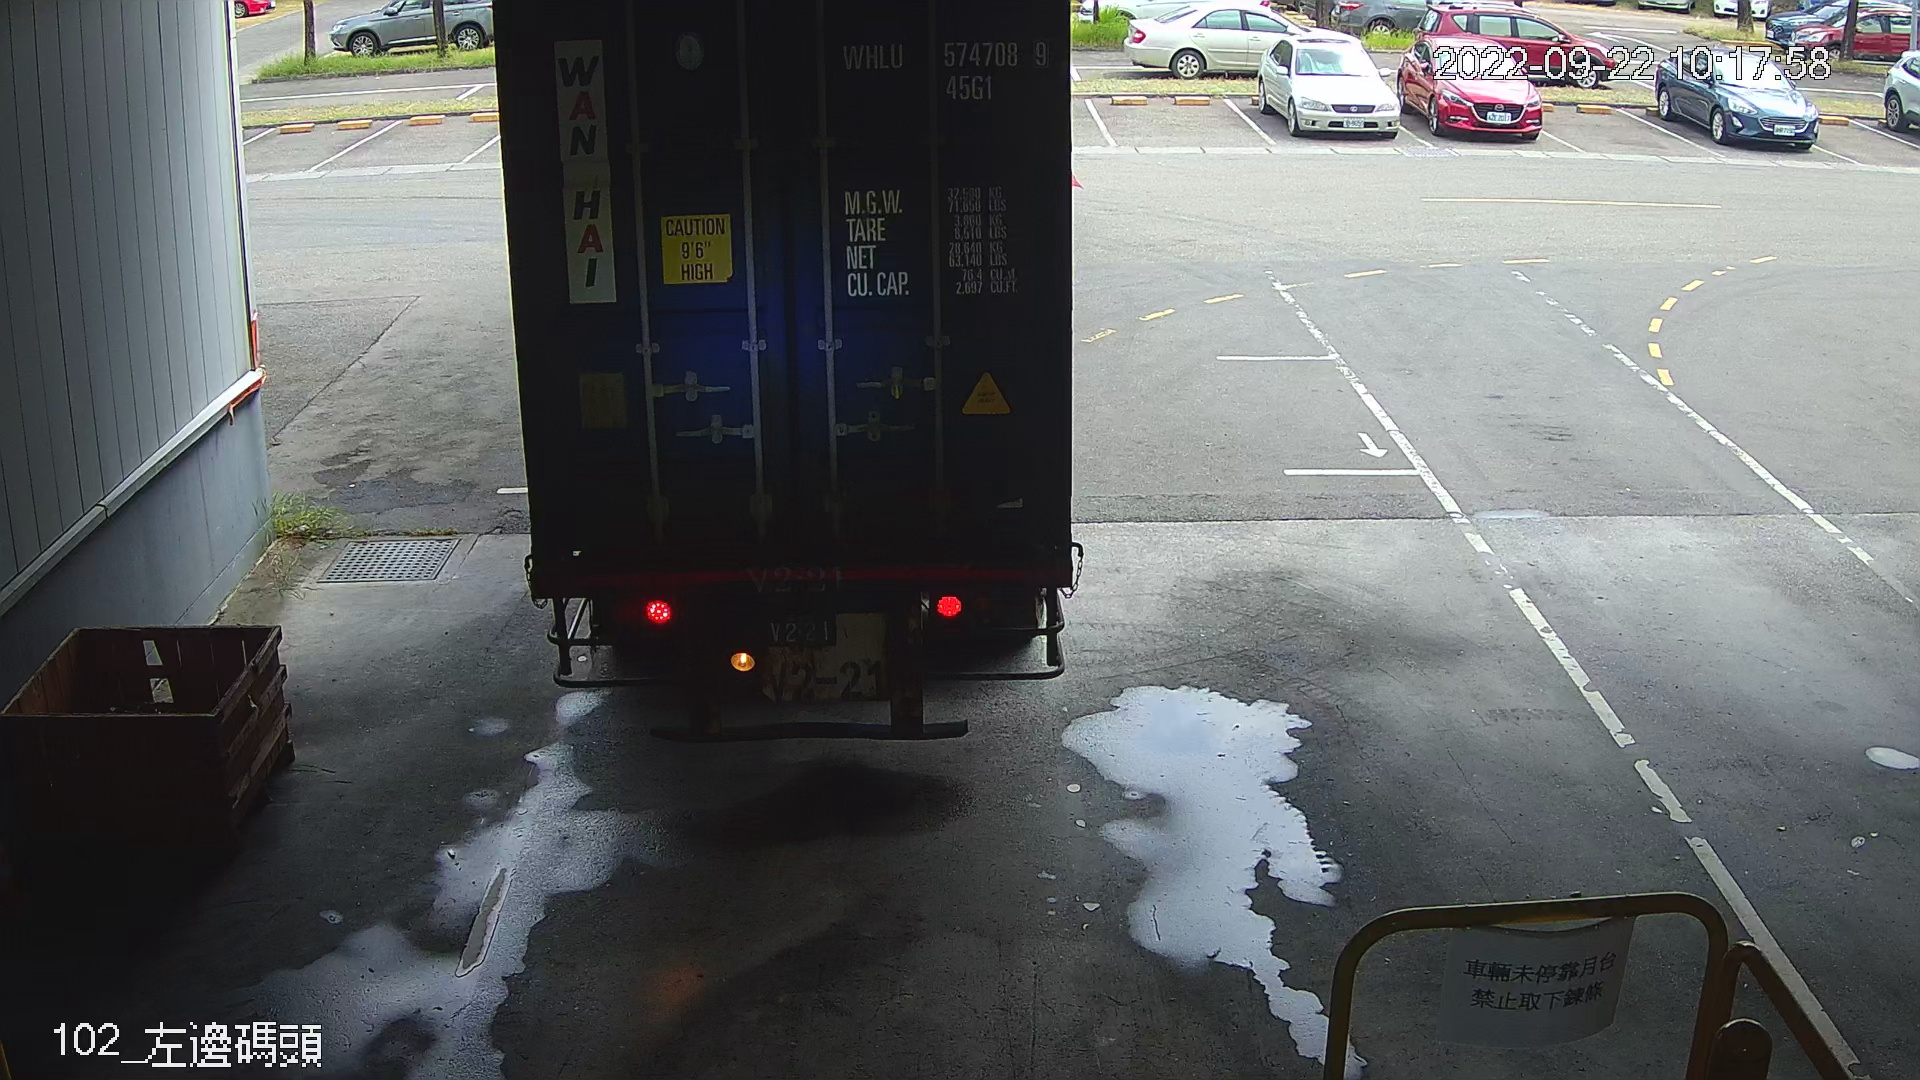container: (832, 30, 1060, 111)
